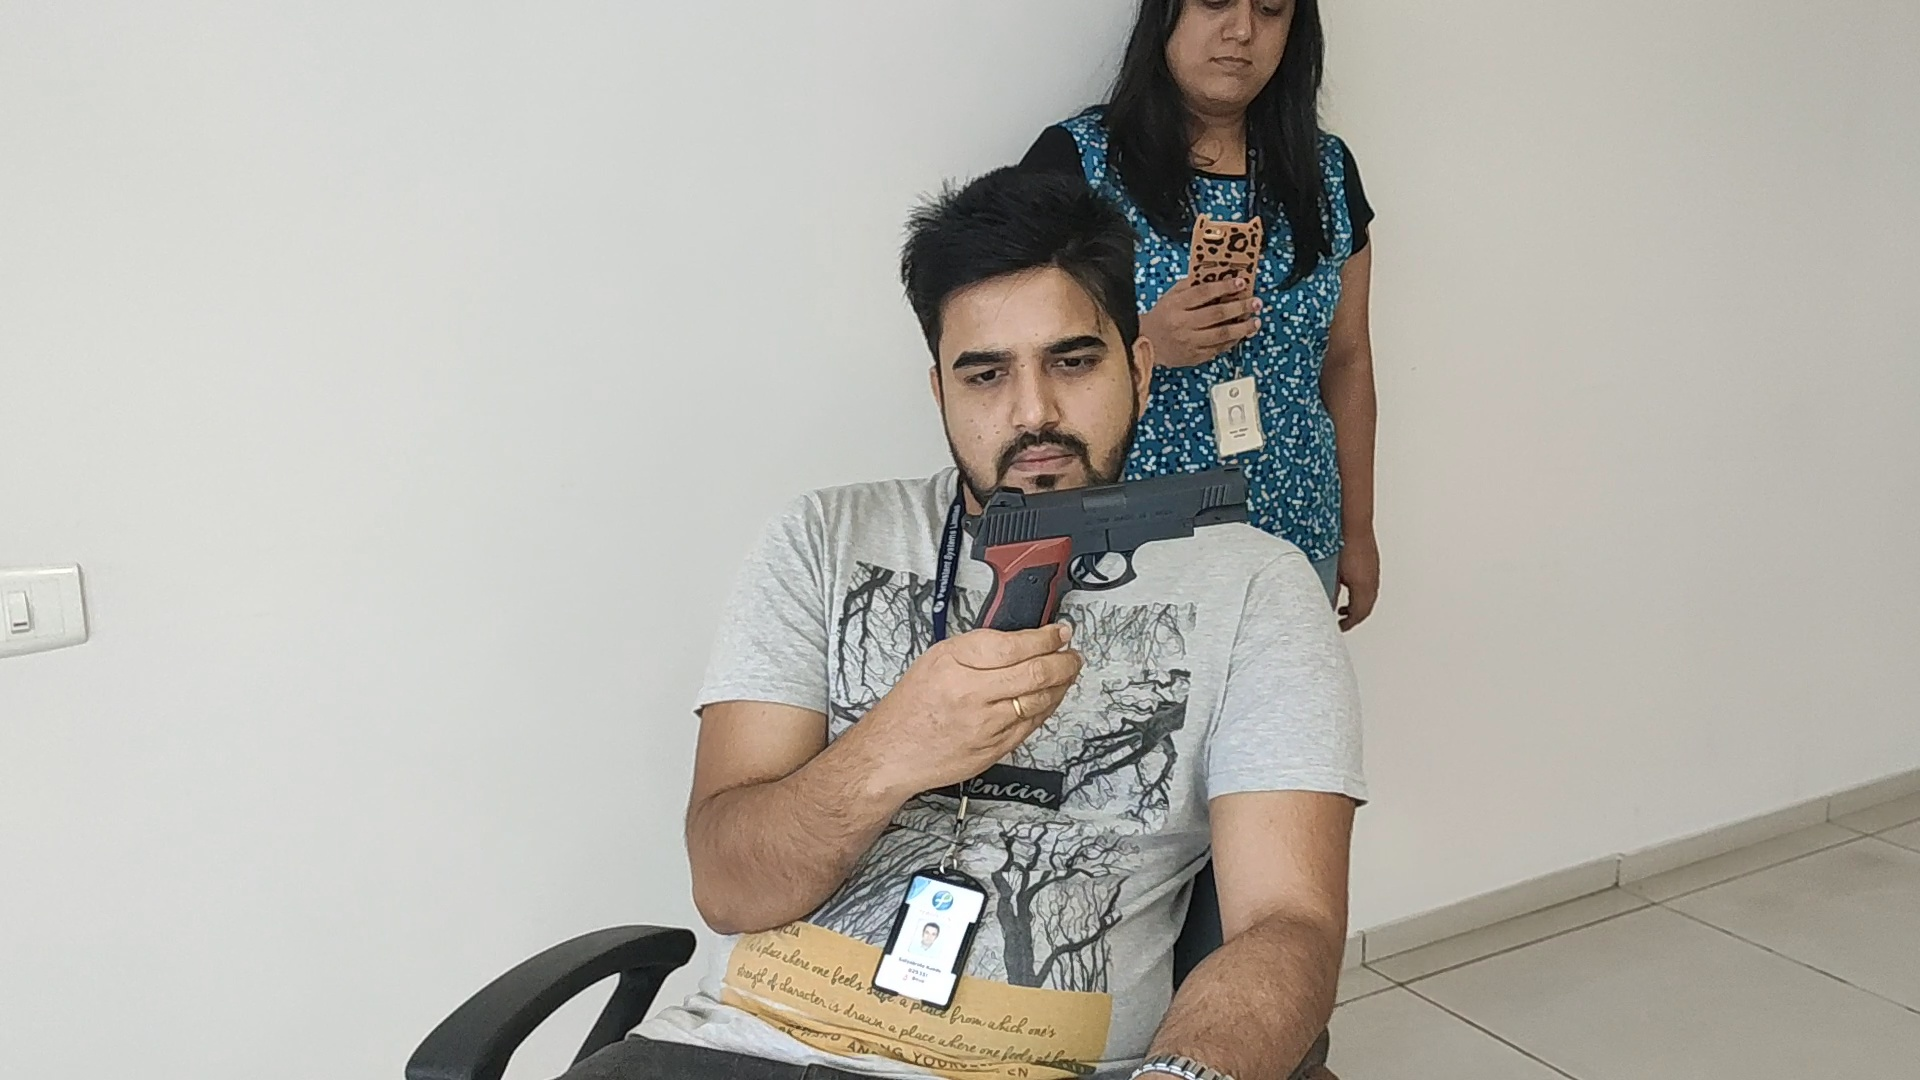gun: (963, 464, 1251, 633)
